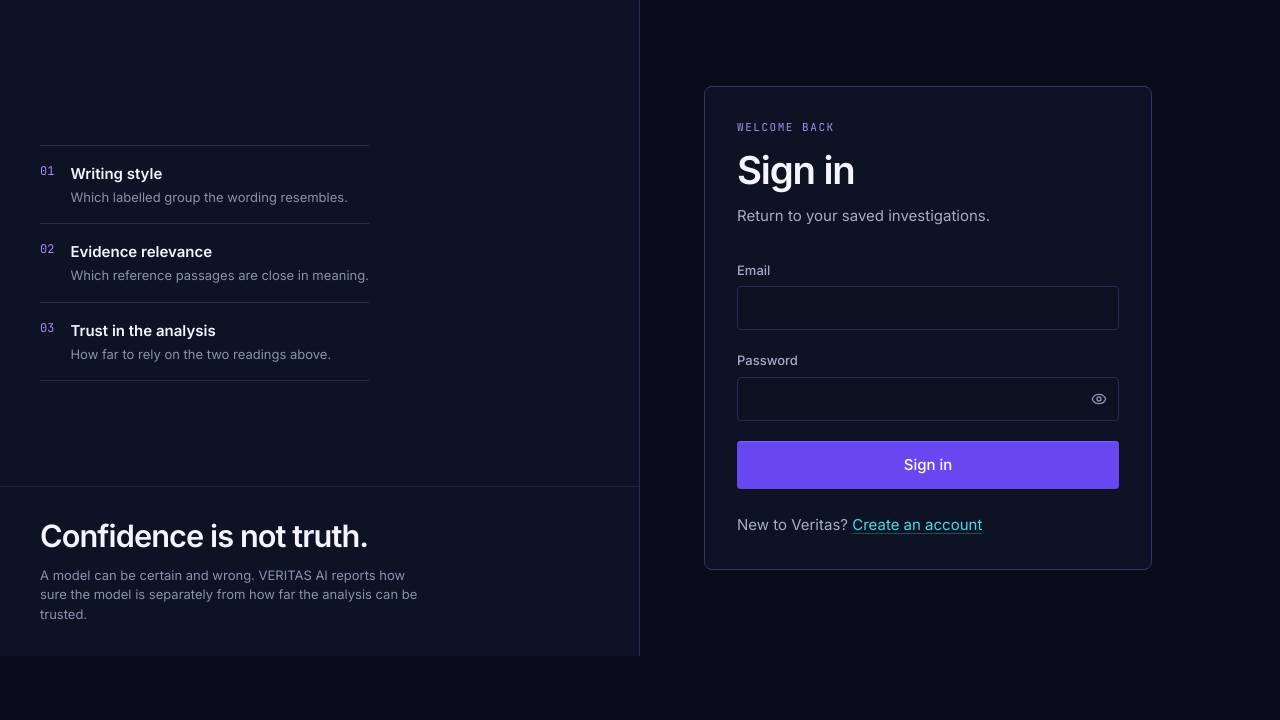
authentication › toggles password visibility with an accessible control
Click the button named "Show password" at (1099, 399), box x1=1083 y1=383 x2=1115 y2=415
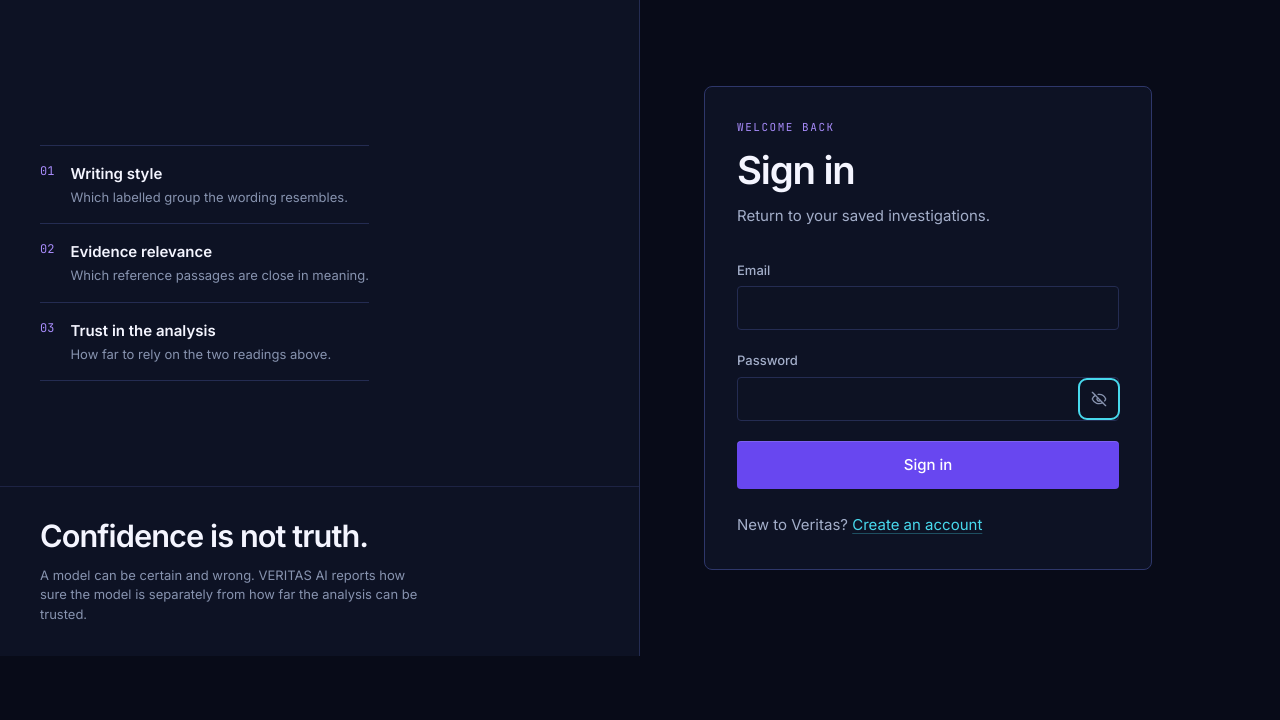
Expected: the button named "Hide password" is pressed, x1=1083 y1=383 x2=1115 y2=415
